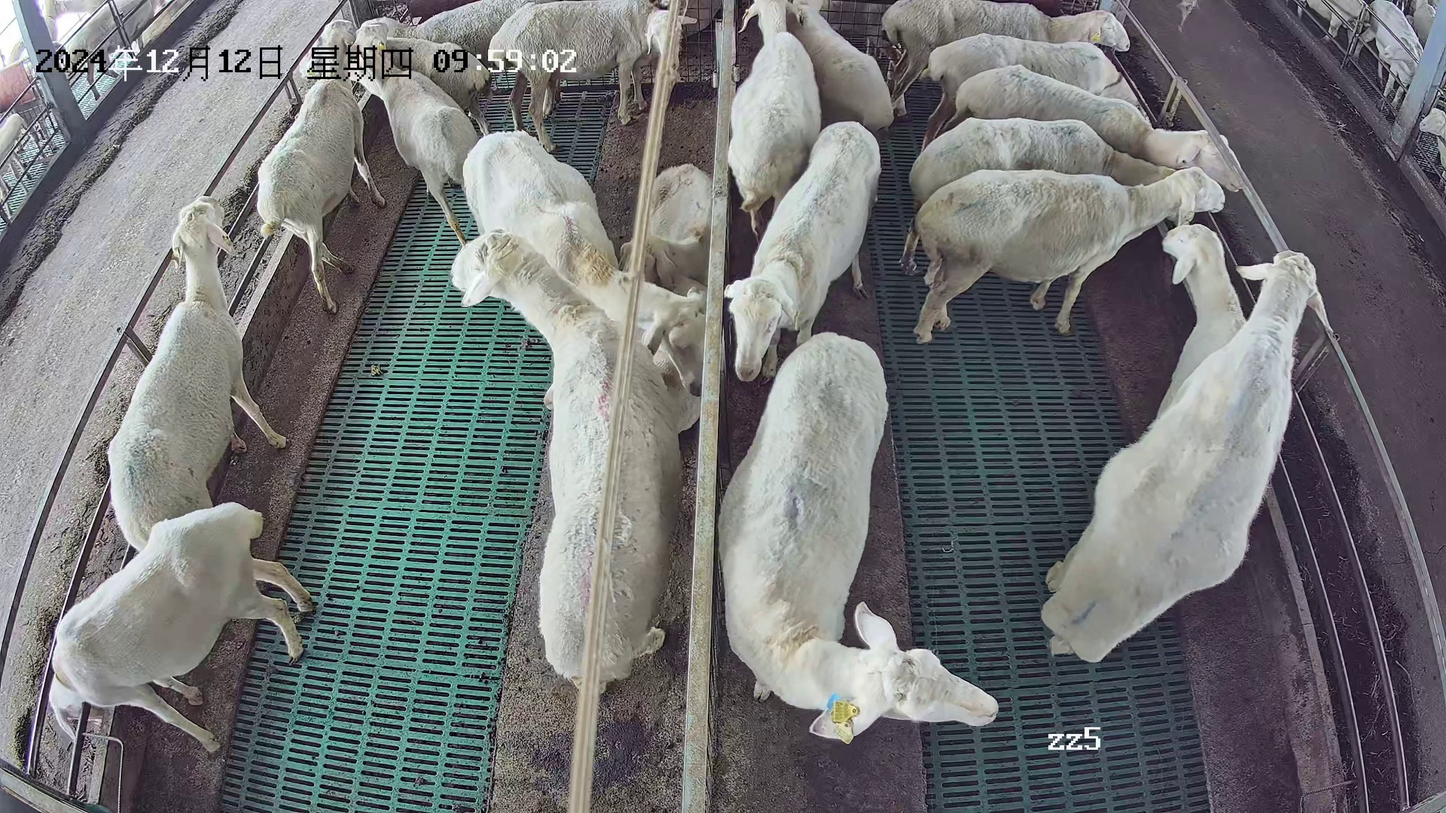Smounting: (1038, 220, 1334, 665)
mounted: (1152, 222, 1249, 418)
